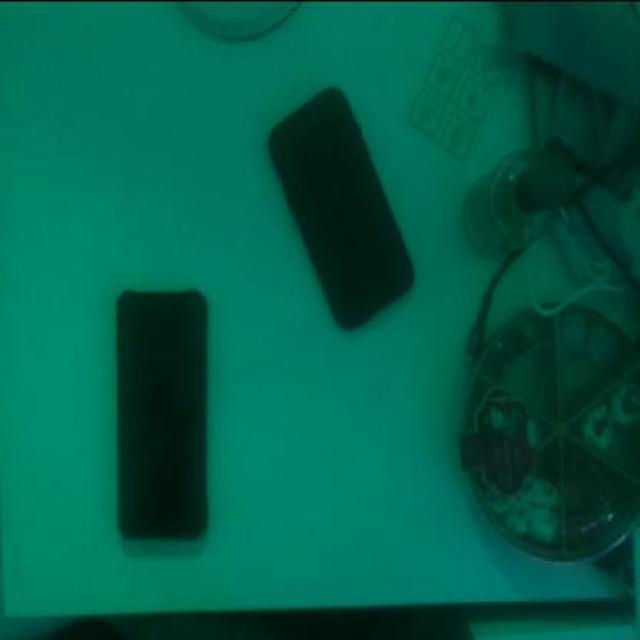phone: (262, 83, 413, 331), (115, 287, 212, 542)
